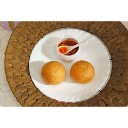bonda: (42, 60, 67, 85), (71, 60, 96, 83)
